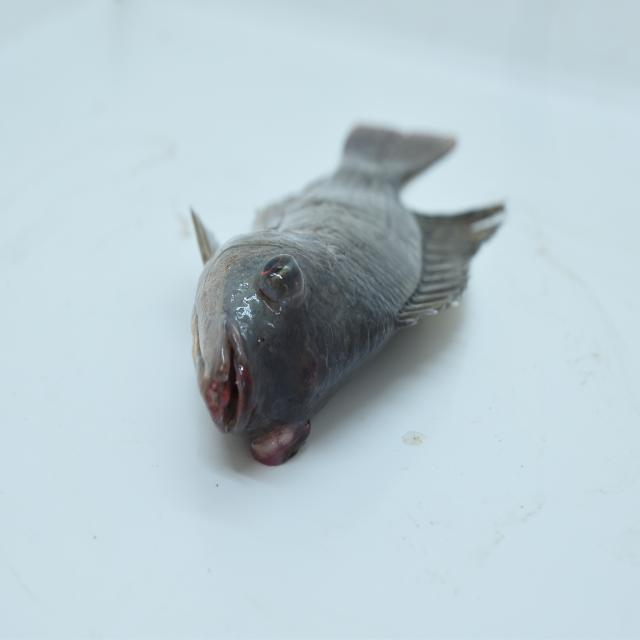Columnaris Disease: (166, 103, 532, 478)
